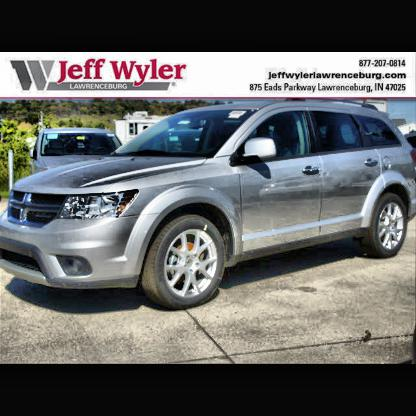Dodge Journey SUV 2012: (1, 104, 415, 312)
